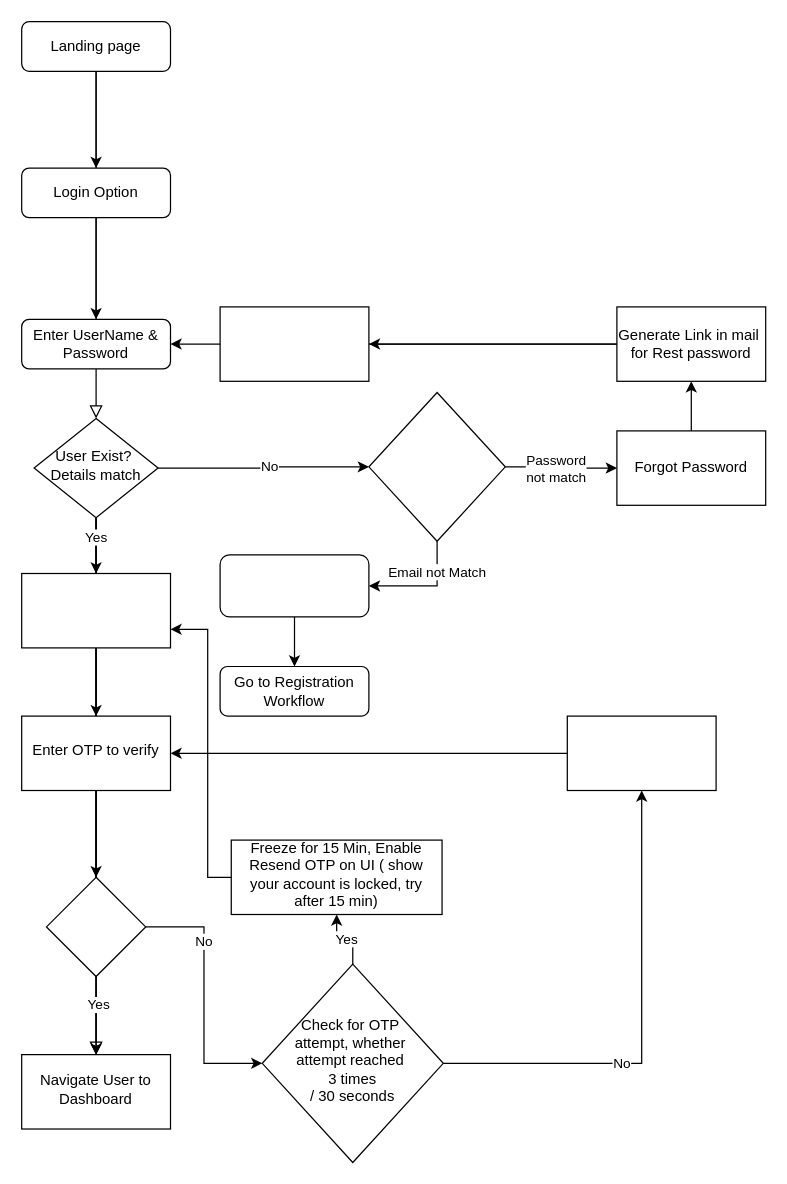
Some shapes in this 787 by 1184 pixel diagram are drawn without their labels. The shapes that lost their labels are listed below. From the top down, each one's centre as x and y in pixels, then its label:
At pixel 294 343: "Update Password".
At pixel 436 466: "Reenter correct email ID & Password".
At pixel 294 585: "User does not Exist. Ask user to Register Yourself".
At pixel 95 610: "Generate OTP & Email/ SMS to Customer".
At pixel 641 752: "Show message Wrong OTP and ask to Re-enter".
At pixel 95 926: "Verify OTP".
